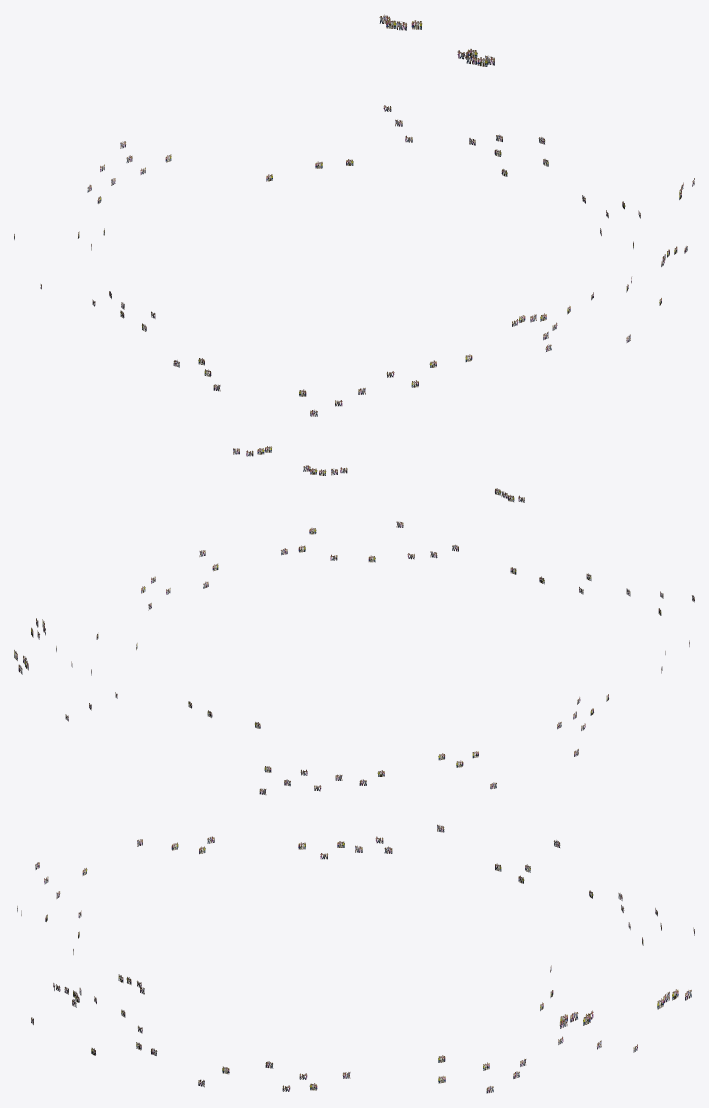
The model's file is gMOB.obj.
3 views of the same model, one above another, from view 1: azimuth 30°, elevation 25°; view 2: azimuth 150°, elevation 25°; view 3: azimuth 270°, elevation 25° (orthographic). The views are drawn at different scales.
Size of the model in its own units: 1435 by 248 by 1576.
